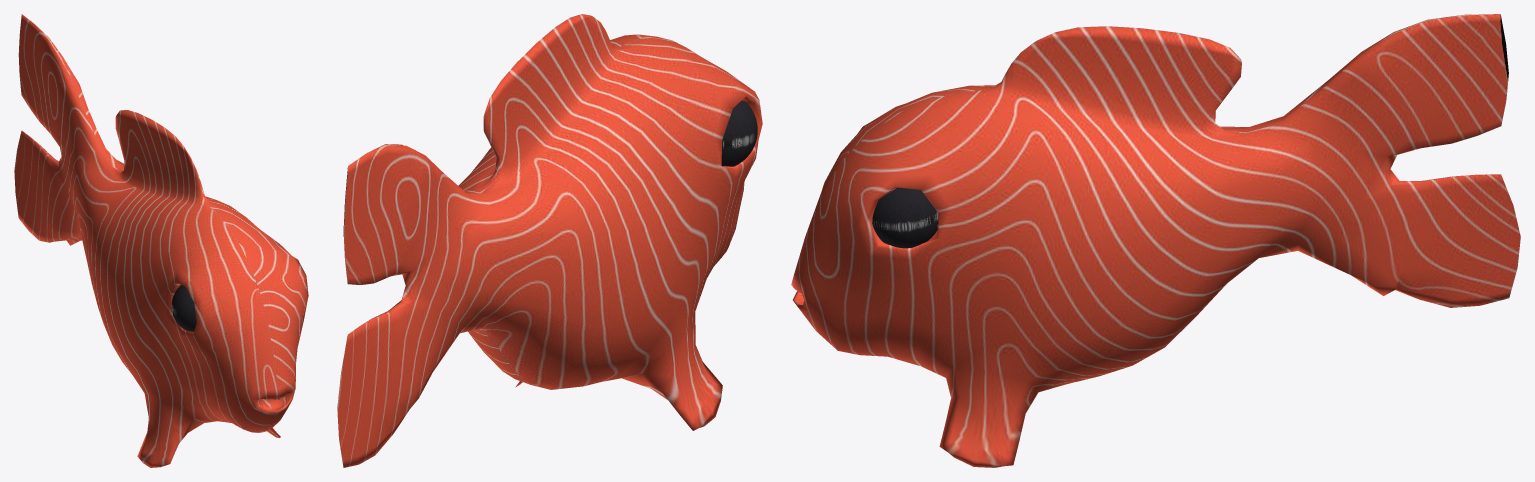
The model's file is Pez.fbx.
3 renders of one model, left to right at view 1: azimuth 30°, elevation 25°; view 2: azimuth 150°, elevation 25°; view 3: azimuth 270°, elevation 25°, orthographic. The views are drawn at different scales.
Parts seen in each view (by area): view 1: Pez; view 2: Pez; view 3: Pez.
Part boxes in pixels (x1=…): Pez: x1=14, y1=14, x2=308, y2=467; Pez: x1=337, y1=14, x2=762, y2=467; Pez: x1=791, y1=14, x2=1520, y2=467.
Size of the model in its own units: 65.15 by 147 by 236.
Materials: 1 (1 with a texture image).
